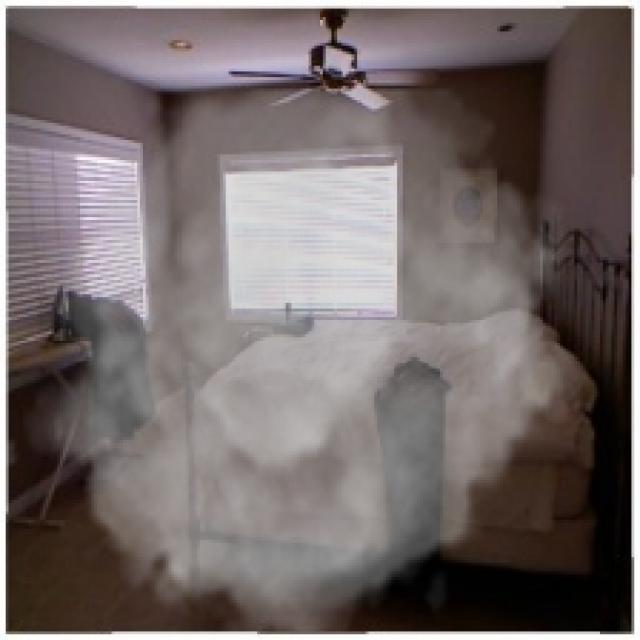Smoke: (22, 89, 588, 632)
